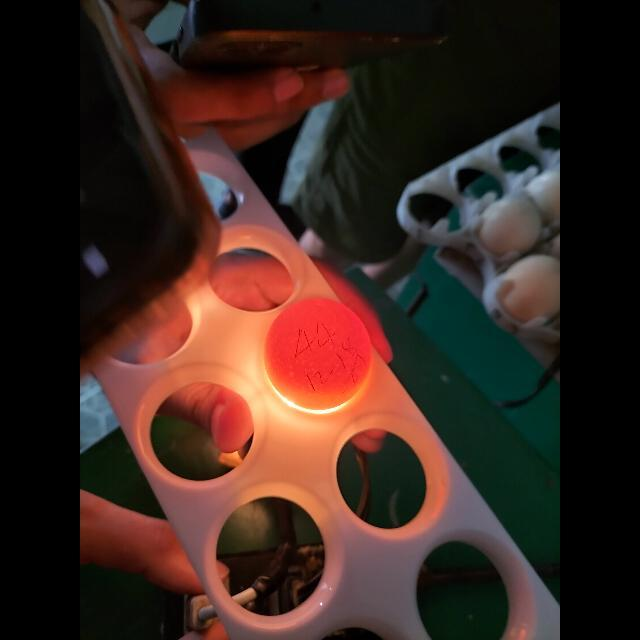Infertile: (266, 292, 370, 410)
